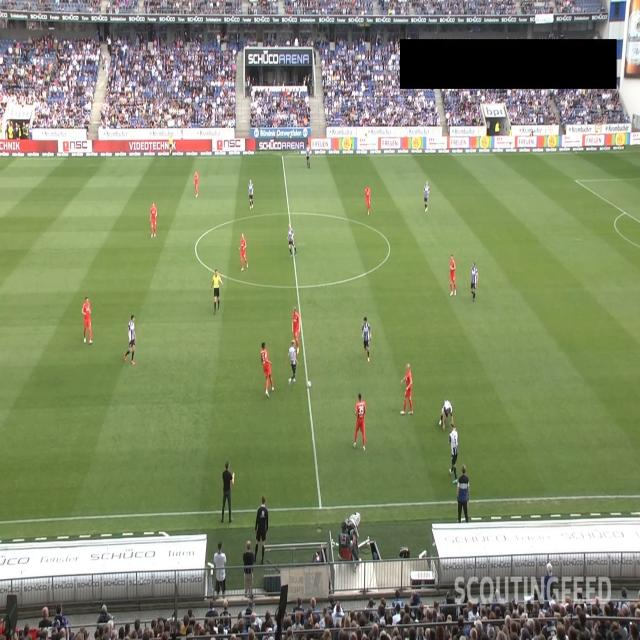ball: (306, 380, 312, 389)
